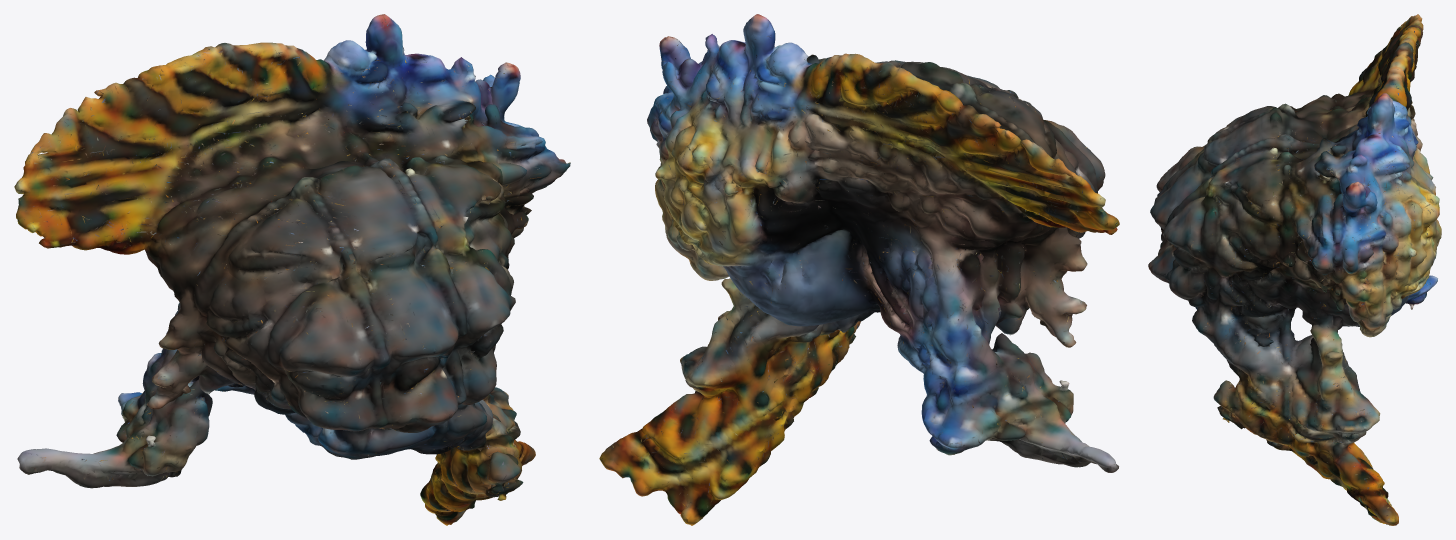
File: Turbellaria1.glb
3 renders of one model, left to right at view 1: azimuth 30°, elevation 25°; view 2: azimuth 150°, elevation 25°; view 3: azimuth 270°, elevation 25°, orthographic. The views are drawn at different scales.
Visible parts, largest first — view 1: tmp7a2w0z27; view 2: tmp7a2w0z27; view 3: tmp7a2w0z27.
Boxes of the visible parts, x1,y1,x2,y2 form: tmp7a2w0z27: [14, 14, 570, 525]; tmp7a2w0z27: [599, 14, 1119, 525]; tmp7a2w0z27: [1148, 14, 1441, 525].
Size of the model in its own units: 0.9958 by 0.9678 by 0.6358.
Materials: 1 (1 with a texture image).
